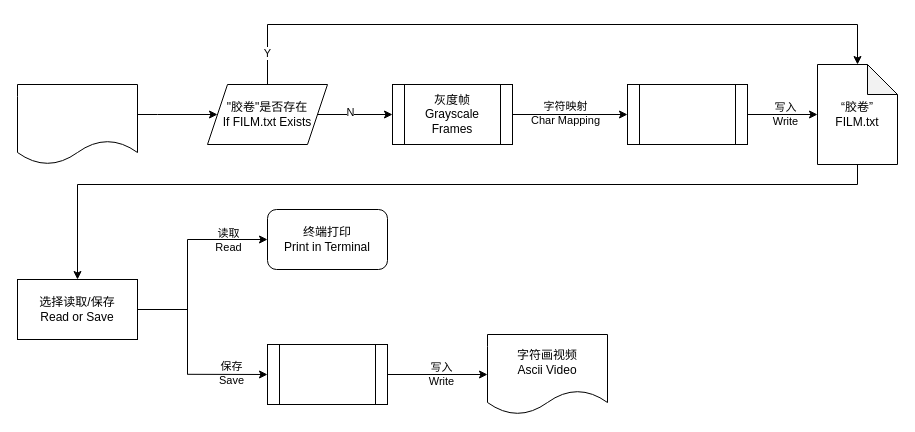
This 915x432 diagram has some shape labels left out. Each missing label, with the box of its shape:
原视频 Original Video: (16, 84, 138, 164)
字符帧 Ascii Frames: (626, 84, 748, 144)
帧图片 Frame.png: (266, 344, 388, 404)
